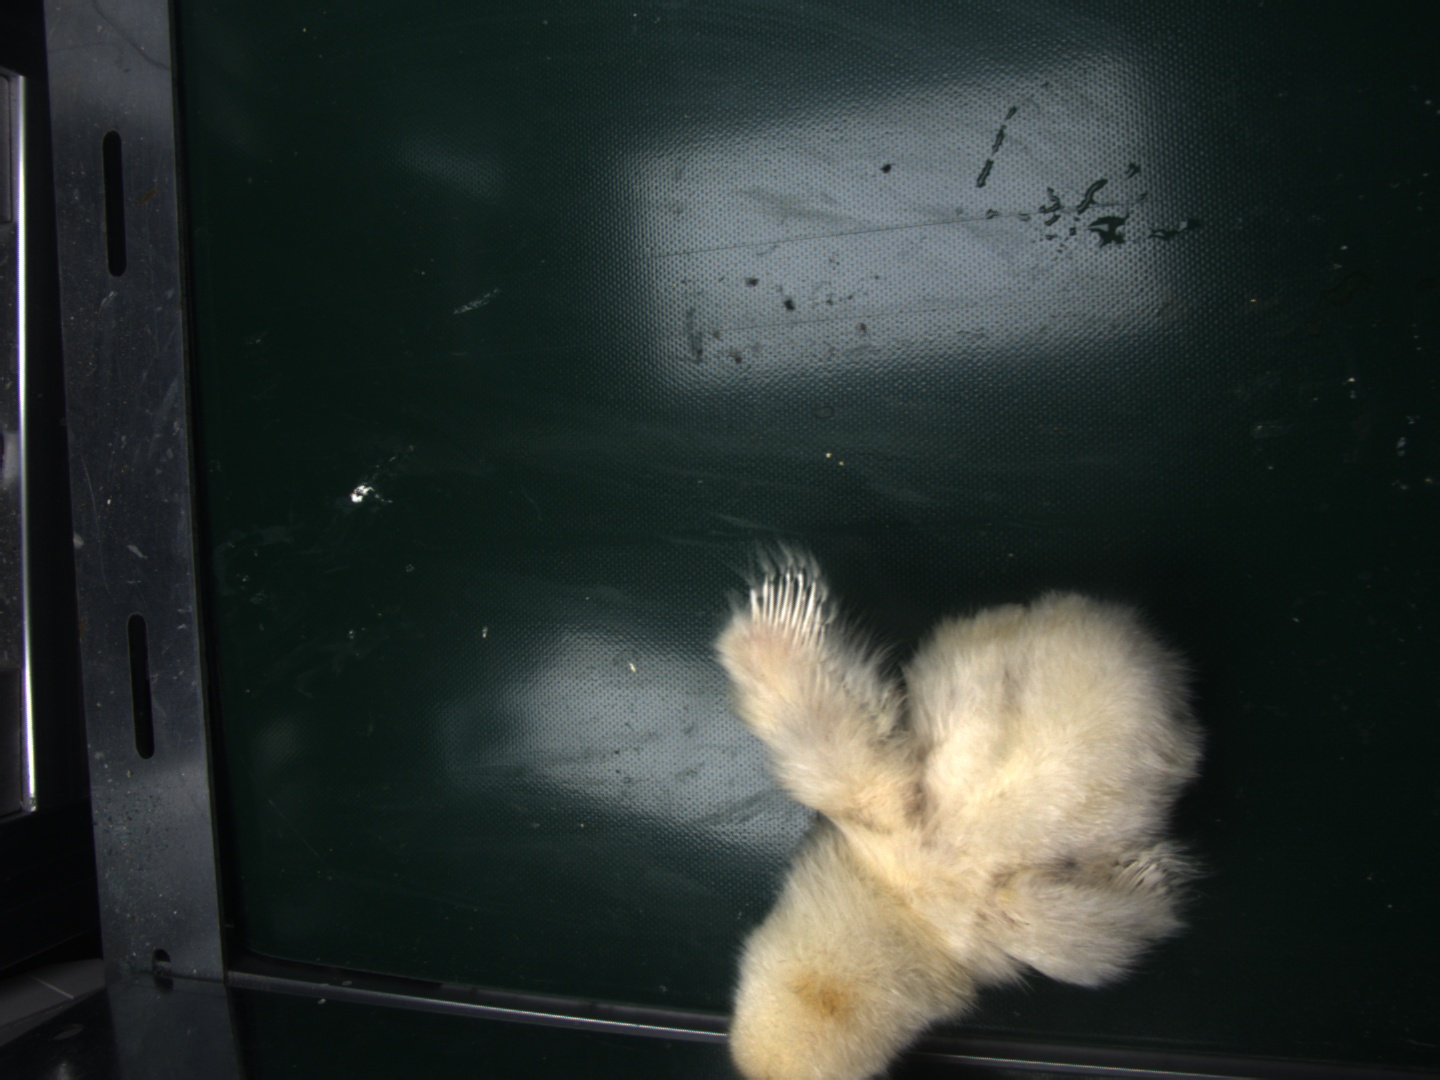male: (755, 563, 830, 650)
